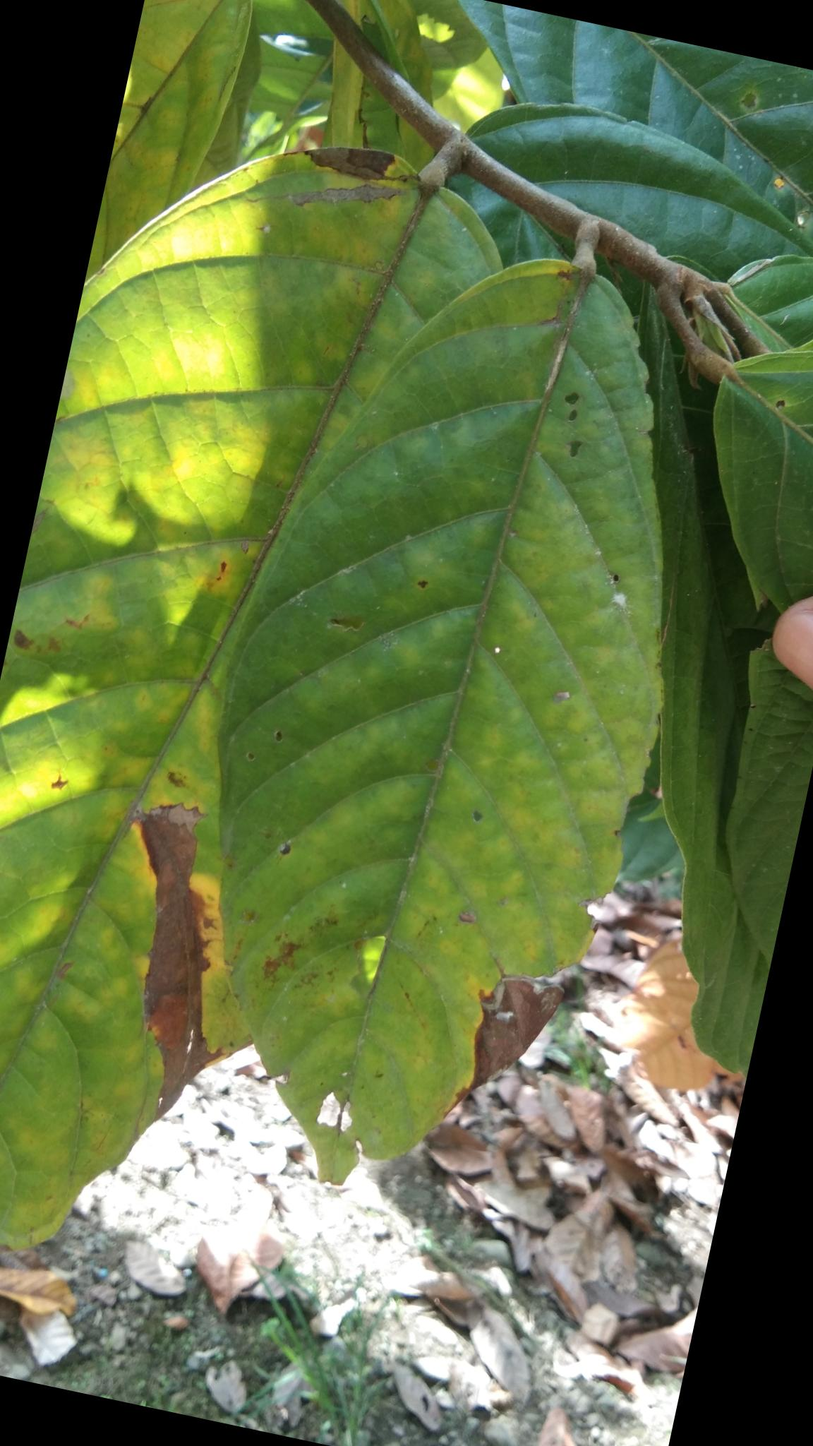Fosforo: (0, 150, 498, 1246), (248, 272, 661, 1223)
